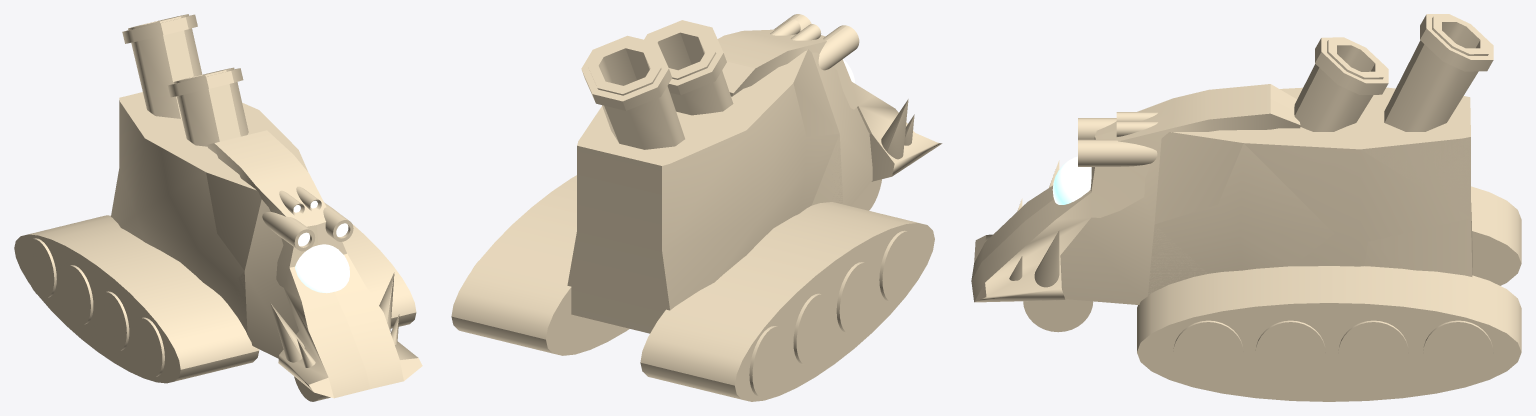
The model's file is Locomotive.fbx.
3 views of the same model, side by side, from view 1: azimuth 30°, elevation 25°; view 2: azimuth 150°, elevation 25°; view 3: azimuth 270°, elevation 25° (orthographic). The views are drawn at different scales.
Parts seen in each view (by area): view 1: Cylinder.003; view 2: Cylinder.003; view 3: Cylinder.003.
Boxes of the visible parts, left/top/right/bottom form: Cylinder.003: left=14, top=14, right=422, bottom=401; Cylinder.003: left=451, top=14, right=942, bottom=401; Cylinder.003: left=971, top=14, right=1521, bottom=401.
Size of the model in its own units: 913 by 986 by 1564.
